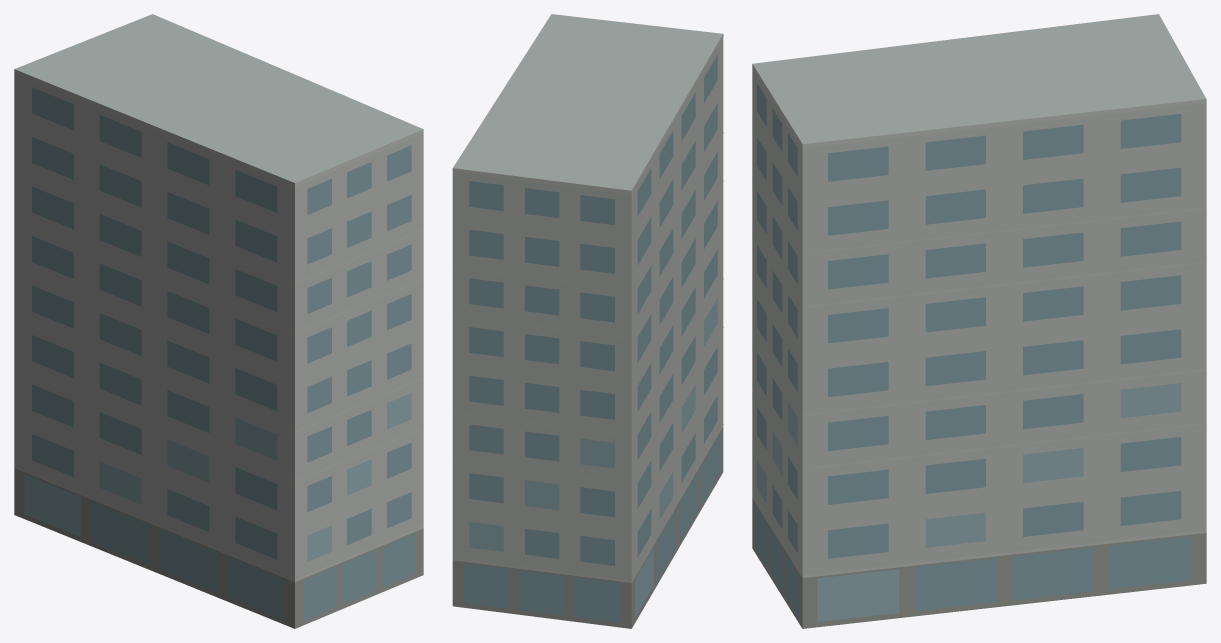
The model's file is survey-upis-32925127.glb.
The picture shows the model from 3 angles, left to right: view 1: azimuth 30°, elevation 25°; view 2: azimuth 150°, elevation 25°; view 3: azimuth 270°, elevation 25°; orthographic projection. The views are drawn at different scales.
Visible parts, largest first — view 1: survey-upis-32925127.tmp; view 2: survey-upis-32925127.tmp; view 3: survey-upis-32925127.tmp.
Part boxes in pixels (x1,y1,x2,y2): survey-upis-32925127.tmp: (14,14,423,628); survey-upis-32925127.tmp: (452,14,723,628); survey-upis-32925127.tmp: (752,14,1206,628).
Size of the model in its own units: 15.29 by 26.5 by 22.53.
